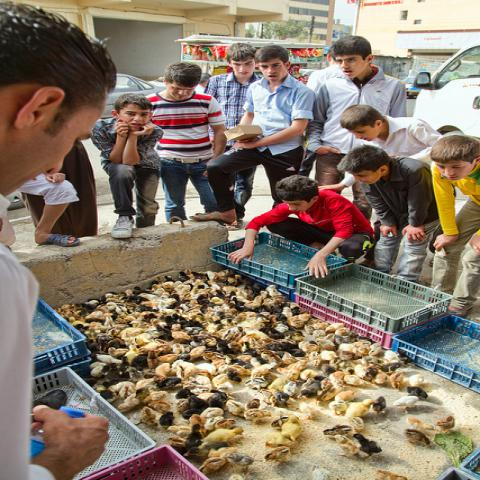car: (411, 45, 479, 140), (101, 73, 162, 118), (401, 76, 416, 99)
